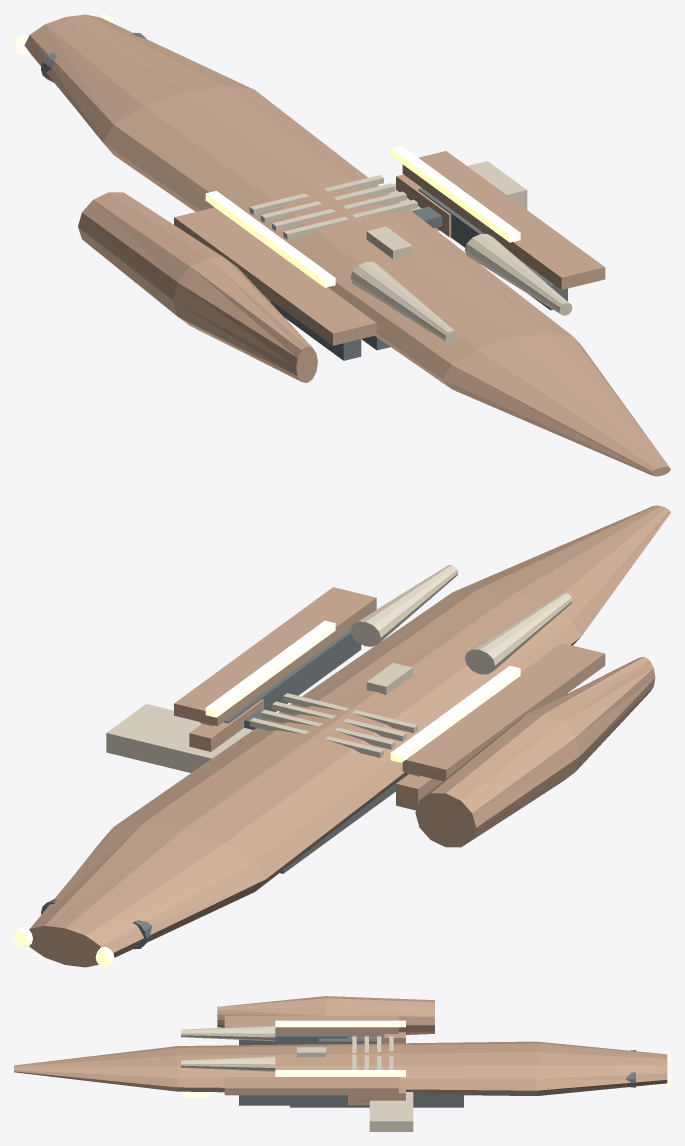
3 views of the same model, one above another, from view 1: azimuth 30°, elevation 25°; view 2: azimuth 150°, elevation 25°; view 3: azimuth 270°, elevation 25° (orthographic). The views are drawn at different scales.
Size of the model in its own units: 6.73 by 1.7 by 17.74.
